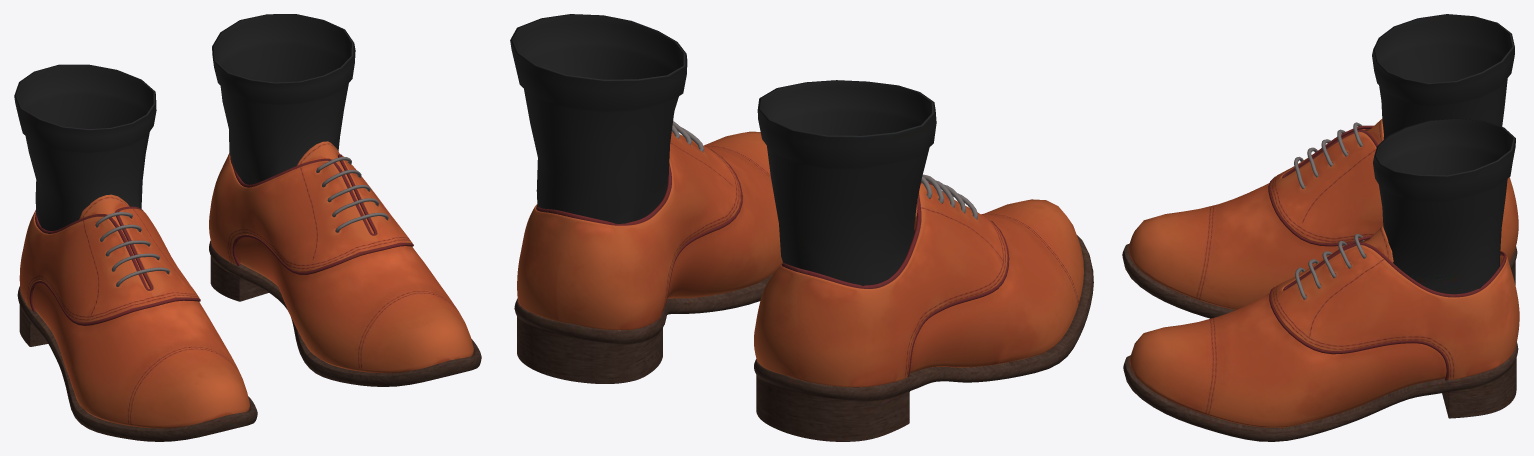
Rendered from Classy.glb.
The picture shows the model from 3 angles, left to right: view 1: azimuth 30°, elevation 25°; view 2: azimuth 150°, elevation 25°; view 3: azimuth 270°, elevation 25°; orthographic projection. The views are drawn at different scales.
Parts seen in each view (by area): view 1: Classy; view 2: Classy; view 3: Classy.
Boxes of the visible parts, x1,y1,x2,y2 form: Classy: (14, 14, 481, 441); Classy: (510, 14, 1093, 441); Classy: (1122, 14, 1519, 441).
Bounding box in the file's own units: 1.09 × 0.6979 × 0.9741.
1 material, 1 textured.
